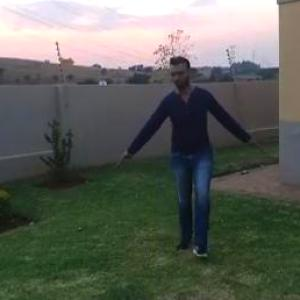land: (81, 31, 260, 286)
